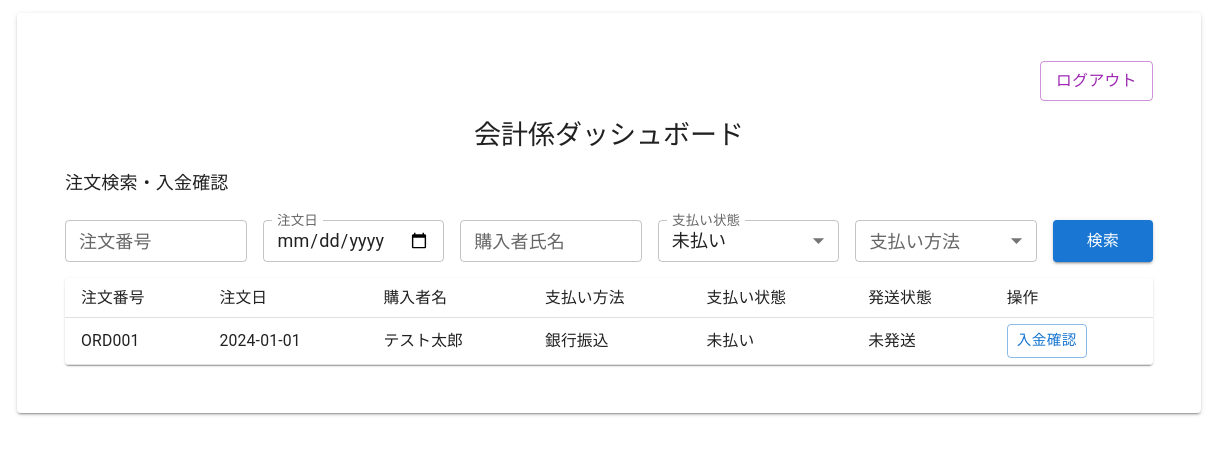
AccountantDashboard › 支払い方法の選択肢が正しく表示される
This screenshot has width=1219, height=464.
Note: 支払い方法のSelectを開く
Press the mouse on the dropdown named "支払い方法" at (946, 241), box [855, 220, 1037, 262]
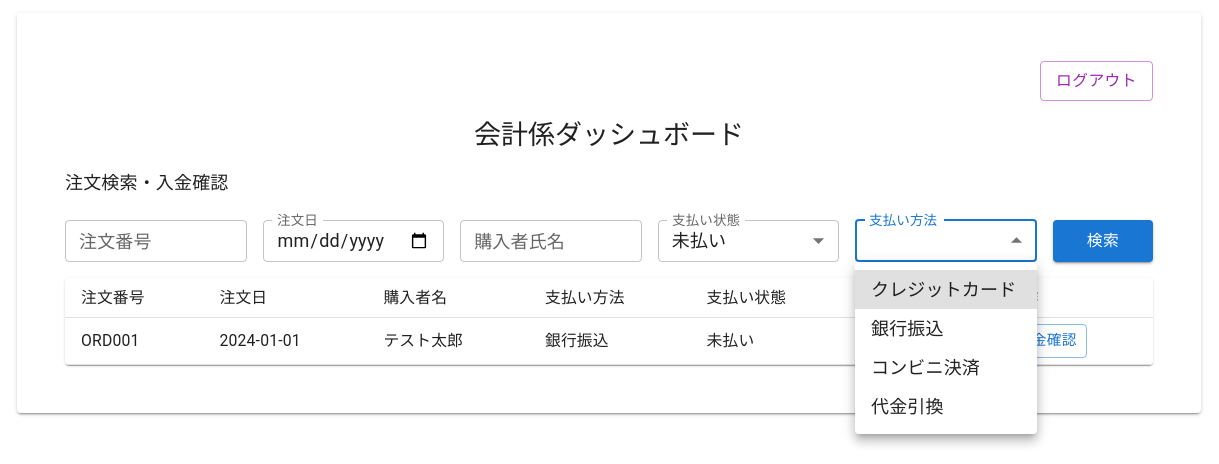
Expected: the option "クレジットカード" is shown, [855, 270, 1037, 309]
Expected: the option "銀行振込" is shown, [871, 318, 944, 339]
Expected: the option "コンビニ決済" is shown, [871, 357, 980, 378]
